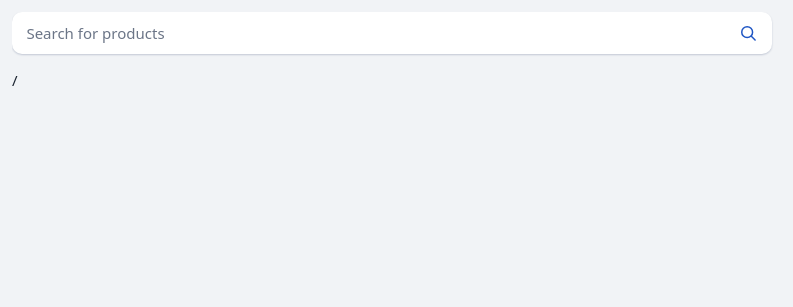
Test: SearchBox recent searches › shows at most the last five
Click the dropdown named "Search products": {"x": 368, "y": 33} [12,12,724,54]
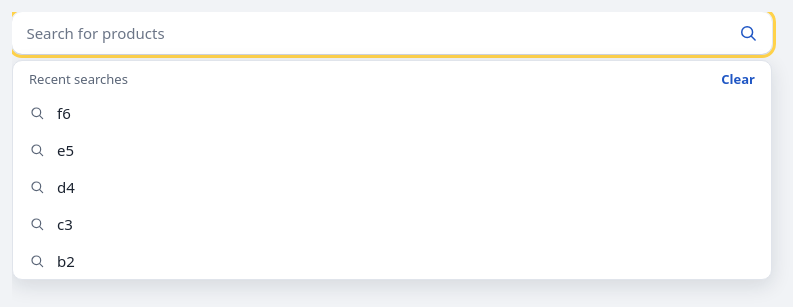
expect the options read "f6", "e5", "d4", "c3", "b2", in this order: met, box [29,103,71,123]; [29,140,74,160]; [29,177,75,197]; [29,214,73,234]; [29,251,75,271]
